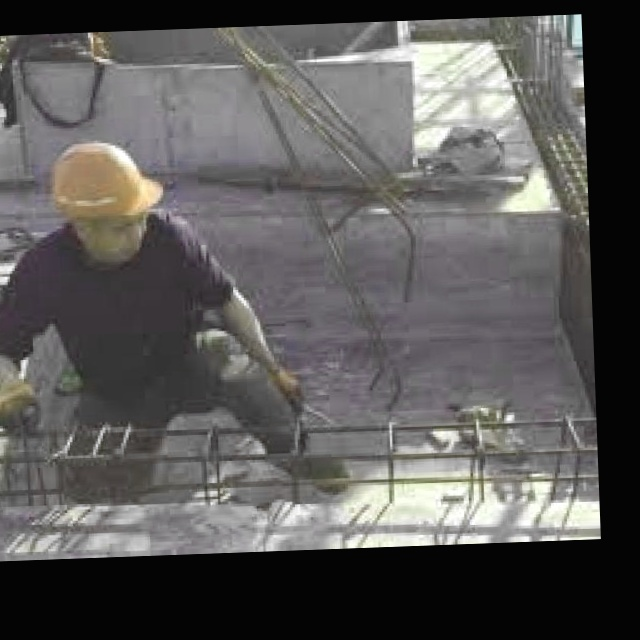Con_Casco: (51, 140, 165, 260)
